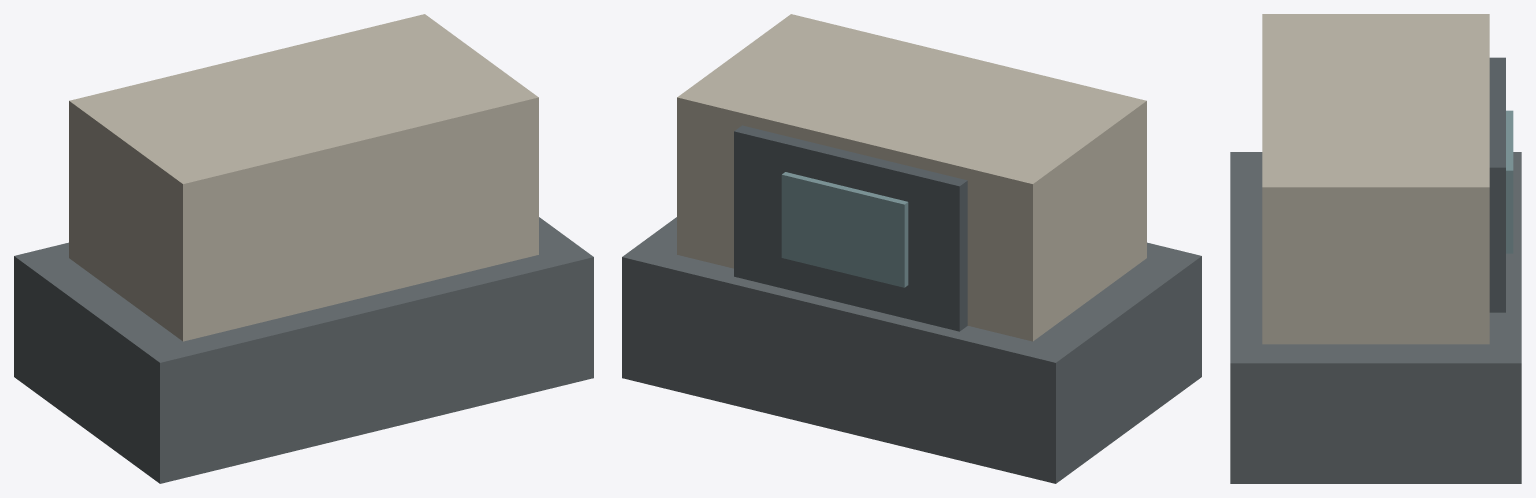
The model's file is iz3_school_desk_01.glb.
3 views of the same model, side by side, from view 1: azimuth 30°, elevation 25°; view 2: azimuth 150°, elevation 25°; view 3: azimuth 270°, elevation 25° (orthographic).
Visible parts, largest first — view 1: cabinet, base; view 2: base, cabinet, panel, display; view 3: cabinet, base, panel, display.
Boxes of the visible parts, bbox=[...] form: cabinet: bbox=[69, 14, 538, 341]; base: bbox=[14, 217, 593, 483]; base: bbox=[622, 217, 1201, 483]; cabinet: bbox=[677, 14, 1146, 341]; panel: bbox=[734, 125, 967, 331]; display: bbox=[781, 172, 908, 287]; cabinet: bbox=[1262, 14, 1489, 344]; base: bbox=[1230, 152, 1521, 483]; panel: bbox=[1489, 57, 1505, 312]; display: bbox=[1506, 110, 1513, 253].
Bounding box in the file's own units: 1.2 × 0.736 × 0.7.
